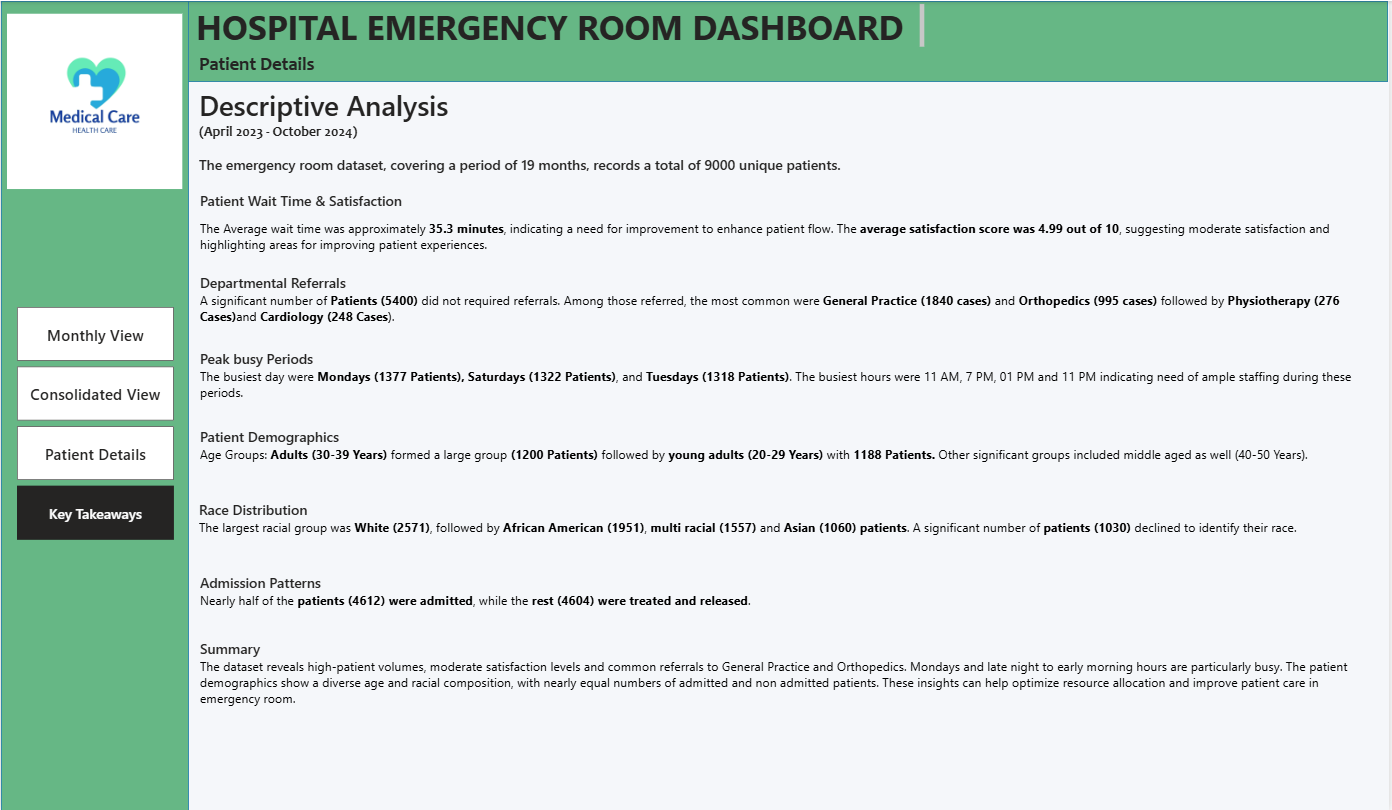

The page's visual inventory and layout, read from the dashboard file:
{"tool":"powerbi","page":{"name":"Key Takeaways","canvas":[2400,1400],"ordinal":3},"visuals":[{"type":"shape","box":[307.7,0,2089.6,140],"z":0},{"type":"textbox","box":[331.9,0,1269.3,85.7],"z":1000},{"type":"textbox","box":[337.4,83.9,299.1,56.5],"z":2000},{"type":"shape","box":[0,0,324.6,1400.6],"z":3000},{"type":"image","box":[10.9,0,302.7,346.5],"z":4000},{"type":"pageNavigator","box":[27.7,528.9,271.4,402.7],"z":5000},{"type":"textbox","box":[337,141.7,1733.6,119.3],"z":6000},{"type":"textbox","box":[337,261,2027.4,62.2],"z":7000},{"type":"textbox","box":[338.8,323.2,2027.4,121],"z":8000},{"type":"textbox","box":[338.8,464.9,2027.4,131.4],"z":9000},{"type":"textbox","box":[338.8,596.3,2027.4,103.7],"z":10000},{"type":"textbox","box":[338.8,731.1,2027.4,86.4],"z":11000},{"type":"textbox","box":[337,857.3,2027.4,103.7],"z":12000},{"type":"textbox","box":[338.8,983.5,2027.4,95.1],"z":13000},{"type":"textbox","box":[338.8,1097.5,2027.4,183.2],"z":14000}]}

Visuals, with their boxes in screenshot pixels (x1, y1, x2, y2), scaled from the page's 2400x1400 canvas onto the 1392x810 screenshot:
shape: crop(178, 0, 1390, 81)
textbox: crop(193, 0, 929, 50)
textbox: crop(196, 49, 369, 81)
shape: crop(0, 0, 188, 809)
image: crop(6, 0, 182, 200)
pageNavigator: crop(16, 306, 173, 539)
textbox: crop(195, 82, 1201, 151)
textbox: crop(195, 151, 1371, 187)
textbox: crop(197, 187, 1372, 257)
textbox: crop(197, 269, 1372, 345)
textbox: crop(197, 345, 1372, 405)
textbox: crop(197, 423, 1372, 473)
textbox: crop(195, 496, 1371, 556)
textbox: crop(197, 569, 1372, 624)
textbox: crop(197, 635, 1372, 741)
